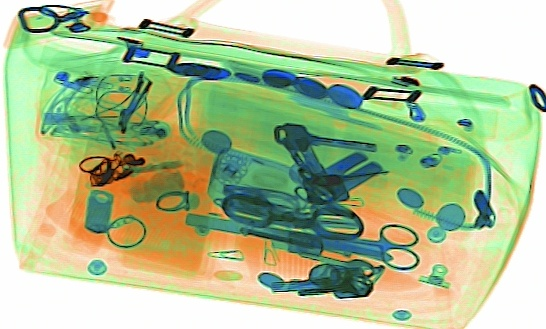scissors: (295, 218, 420, 270)
